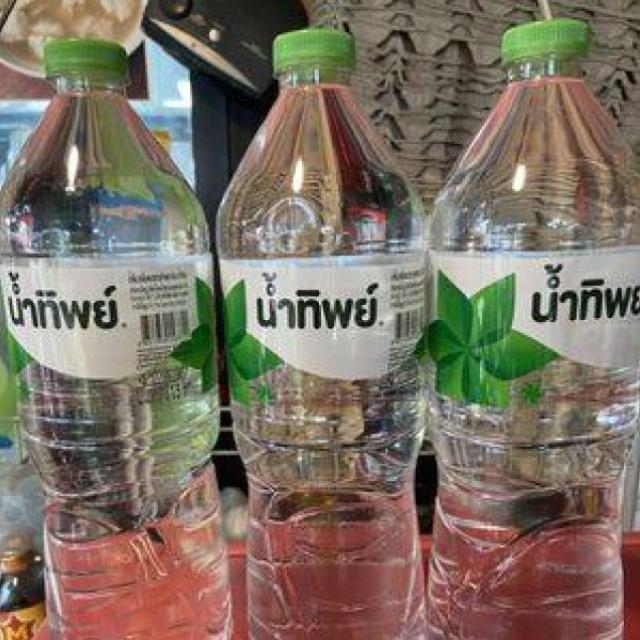plastik: (0, 41, 228, 640), (423, 19, 640, 640), (217, 28, 425, 640)
